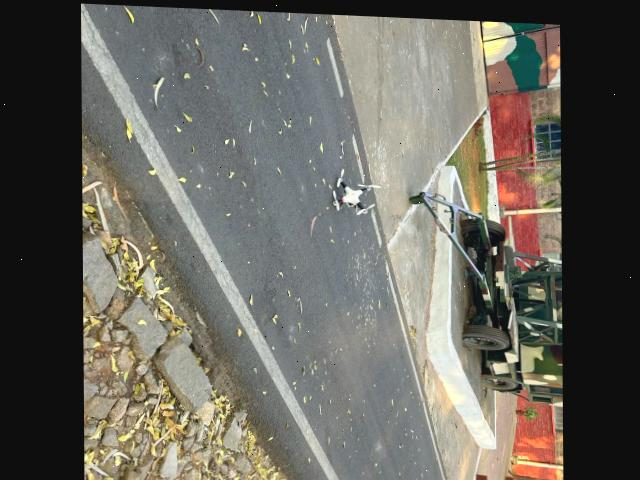drone: (313, 142, 391, 244)
